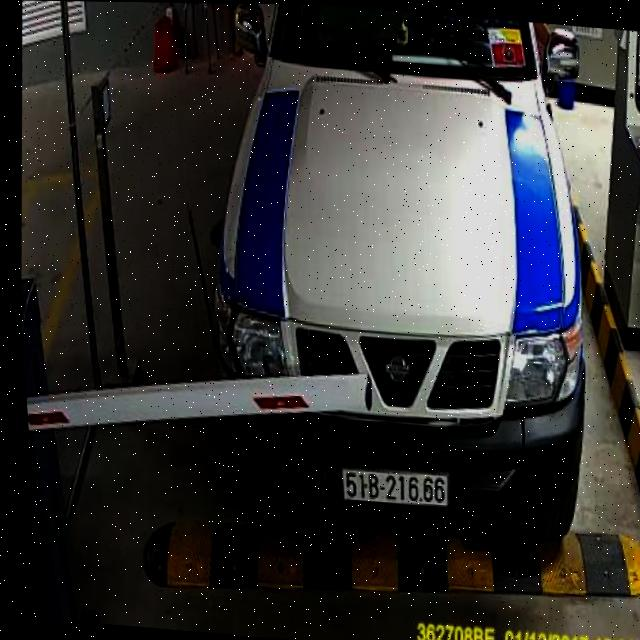car: (176, 3, 624, 555)
plate: (334, 462, 458, 514)
